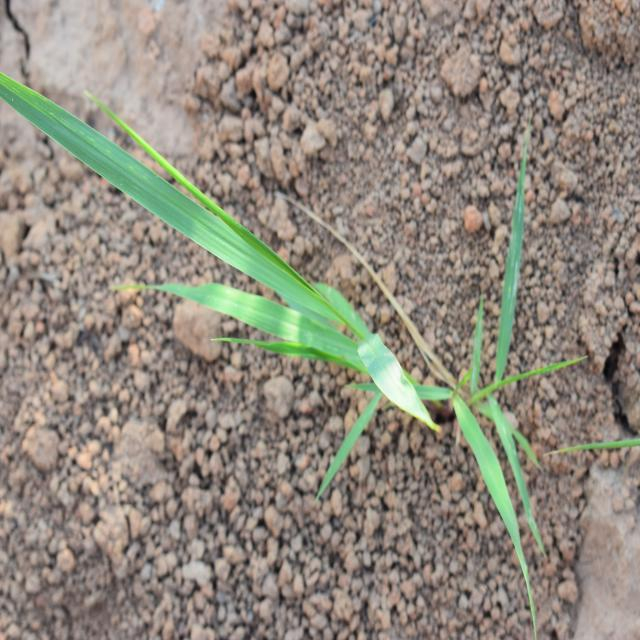green_foxtail: (94, 100, 407, 429)
